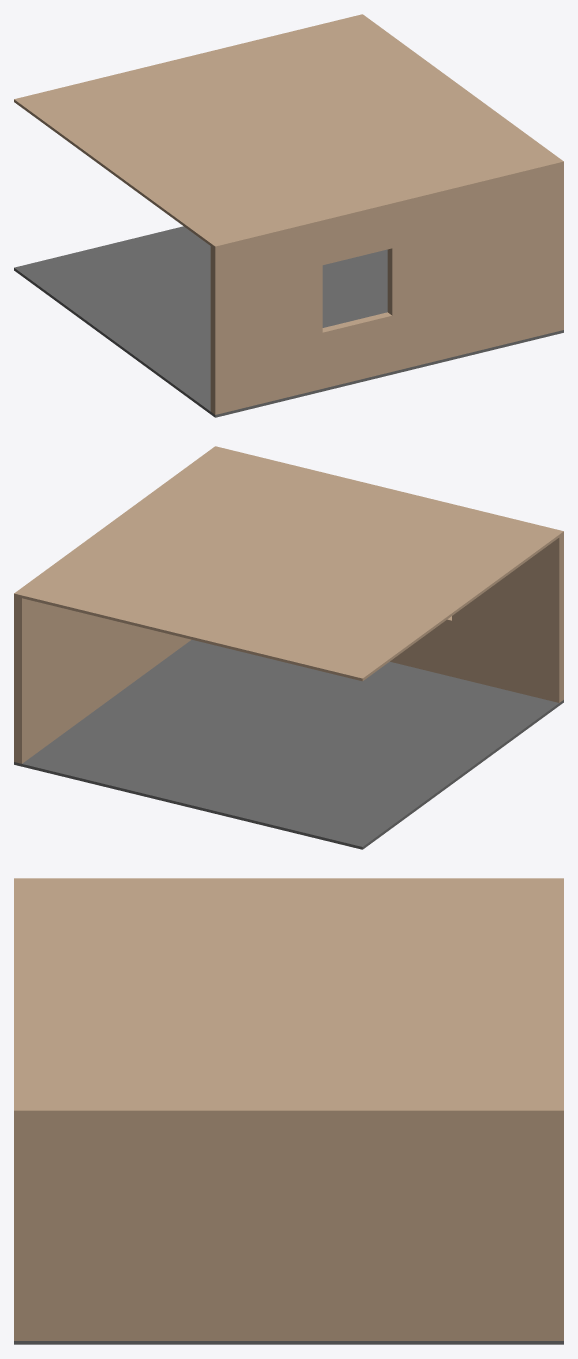
File: Room03.gltf
The picture shows the model from 3 angles, top to bottom: view 1: azimuth 30°, elevation 25°; view 2: azimuth 150°, elevation 25°; view 3: azimuth 270°, elevation 25°; orthographic projection. The views are drawn at different scales.
Visible parts, largest first — view 1: roof, wall2, floor, Wall4-left; view 2: roof, floor, Wall4-left, wall2; view 3: Wall4-left, roof, wall2, floor.
Part boxes in pixels (box(x1,y1,x2,y2)): roof: box(14, 15, 561, 247); wall2: box(210, 158, 563, 414); floor: box(14, 226, 563, 417); Wall4-left: box(355, 14, 558, 159); roof: box(14, 449, 561, 681); floor: box(14, 640, 563, 849); Wall4-left: box(14, 449, 218, 763); wall2: box(211, 446, 563, 702); Wall4-left: box(26, 1105, 563, 1340); roof: box(18, 878, 563, 1114); wall2: box(14, 878, 26, 1340); floor: box(14, 1341, 563, 1344).
Bounding box in the file's own units: 130 × 61 × 130.
